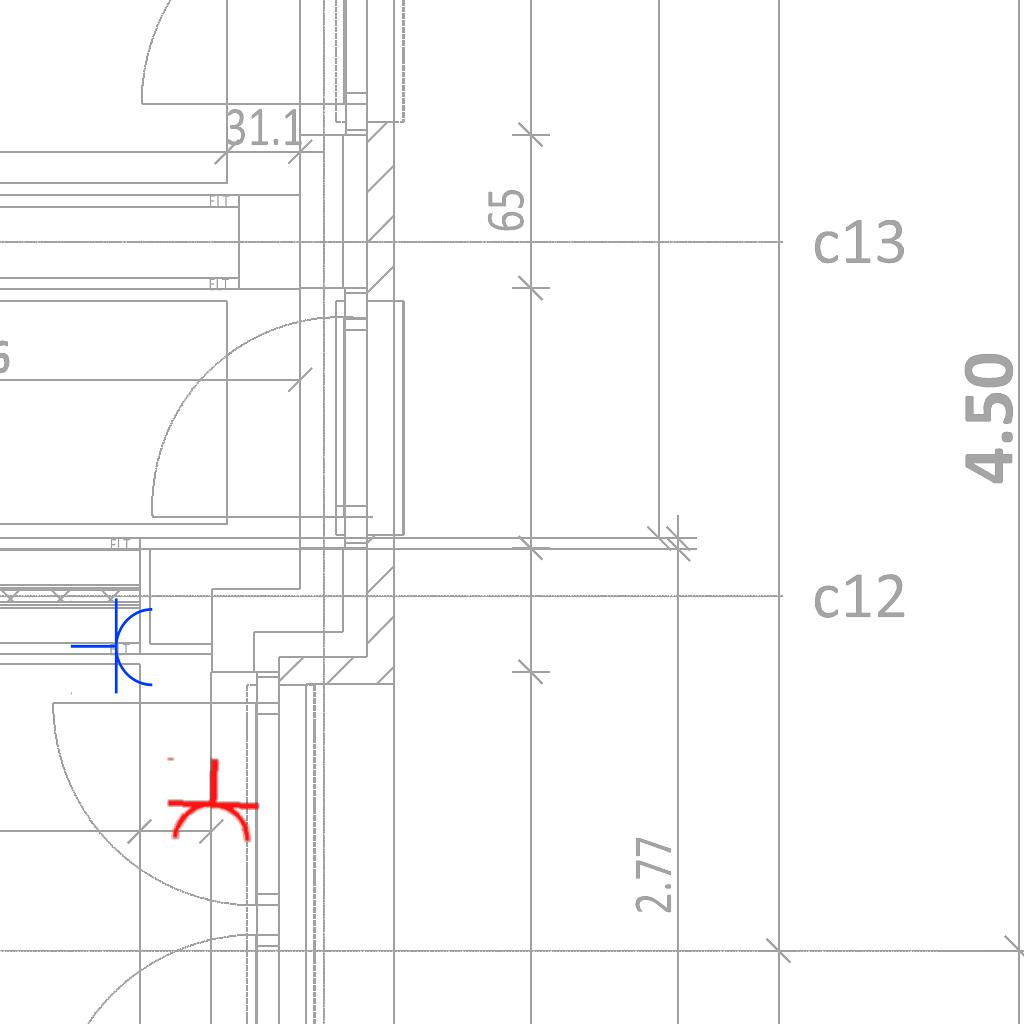Schukosteckdose_einfach: (160, 754, 263, 846), (70, 597, 157, 697)
